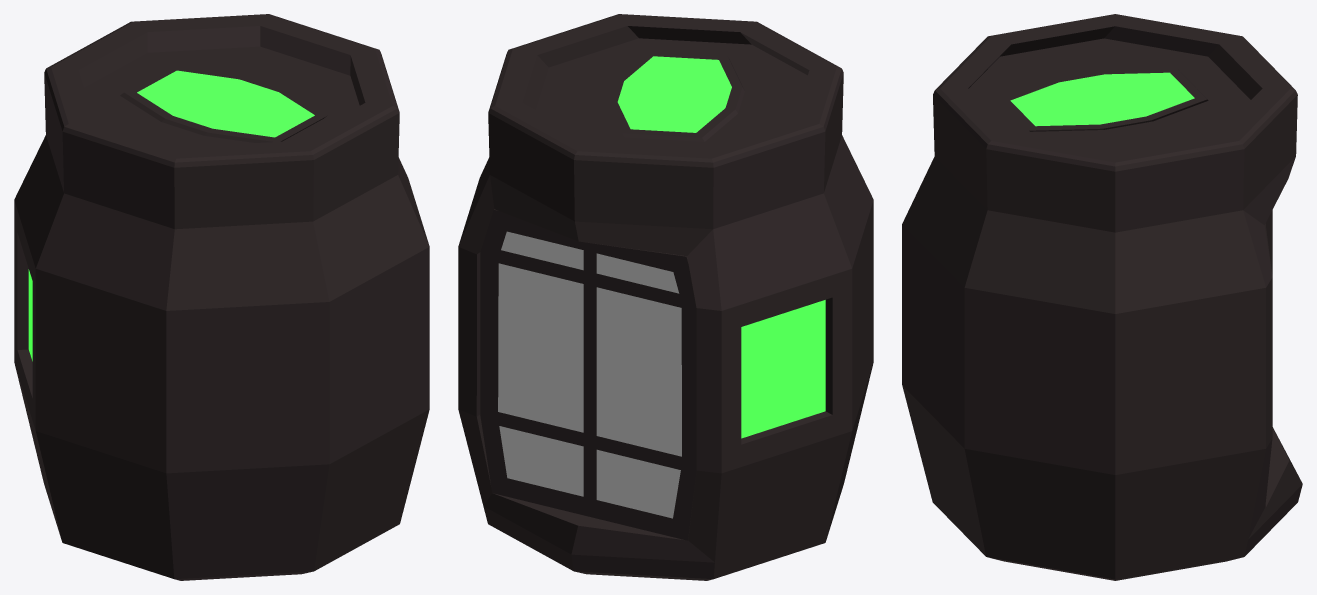
Rendered from cargocontainer-black.glb.
3 renders of one model, left to right at view 1: azimuth 30°, elevation 25°; view 2: azimuth 150°, elevation 25°; view 3: azimuth 270°, elevation 25°, orthographic.
Visible parts, largest first — view 1: cilindro, pannello; view 2: cilindro, cilindro.001, oblo, pannello; view 3: cilindro, pannello.
Part boxes in pixels (left/top/right/bottom): cilindro: left=14, top=14, right=429, bottom=580; pannello: left=137, top=70, right=314, bottom=137; cilindro: left=458, top=14, right=873, bottom=580; cilindro.001: left=498, top=231, right=681, bottom=518; oblo: left=741, top=300, right=825, bottom=438; pannello: left=617, top=56, right=731, bottom=132; cilindro: left=902, top=14, right=1302, bottom=580; pannello: left=1010, top=72, right=1194, bottom=126.
Size of the model in its own units: 2.33 by 2.57 by 2.19.
